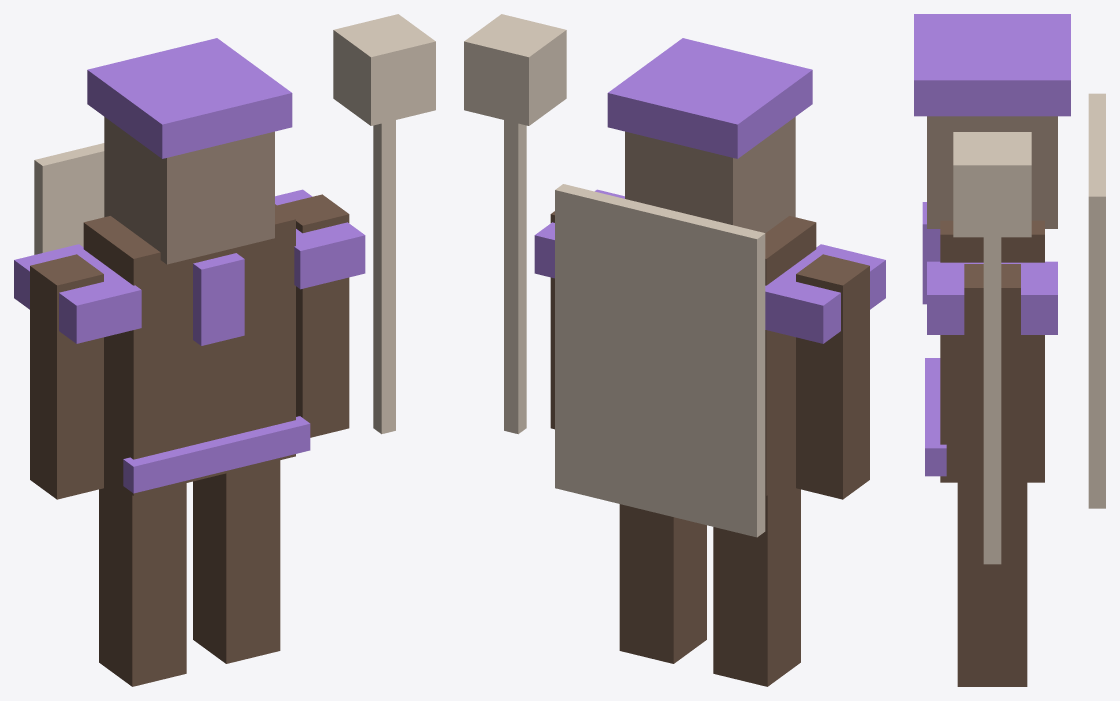
The model's file is 08_asha_gantryn_archivist_at_choir.glb.
3 views of the same model, side by side, from view 1: azimuth 30°, elevation 25°; view 2: azimuth 150°, elevation 25°; view 3: azimuth 270°, elevation 25° (orthographic). The views are drawn at different scales.
Parts seen in each view (by area): view 1: Asha Gantryn, Archivist at Choir; view 2: Asha Gantryn, Archivist at Choir; view 3: Asha Gantryn, Archivist at Choir.
Boxes of the visible parts, bbox=[...] form: Asha Gantryn, Archivist at Choir: bbox=[14, 14, 435, 686]; Asha Gantryn, Archivist at Choir: bbox=[464, 14, 885, 686]; Asha Gantryn, Archivist at Choir: bbox=[914, 14, 1105, 686].
Bounding box in the file's own units: 1.08 × 1.6 × 0.4611.
